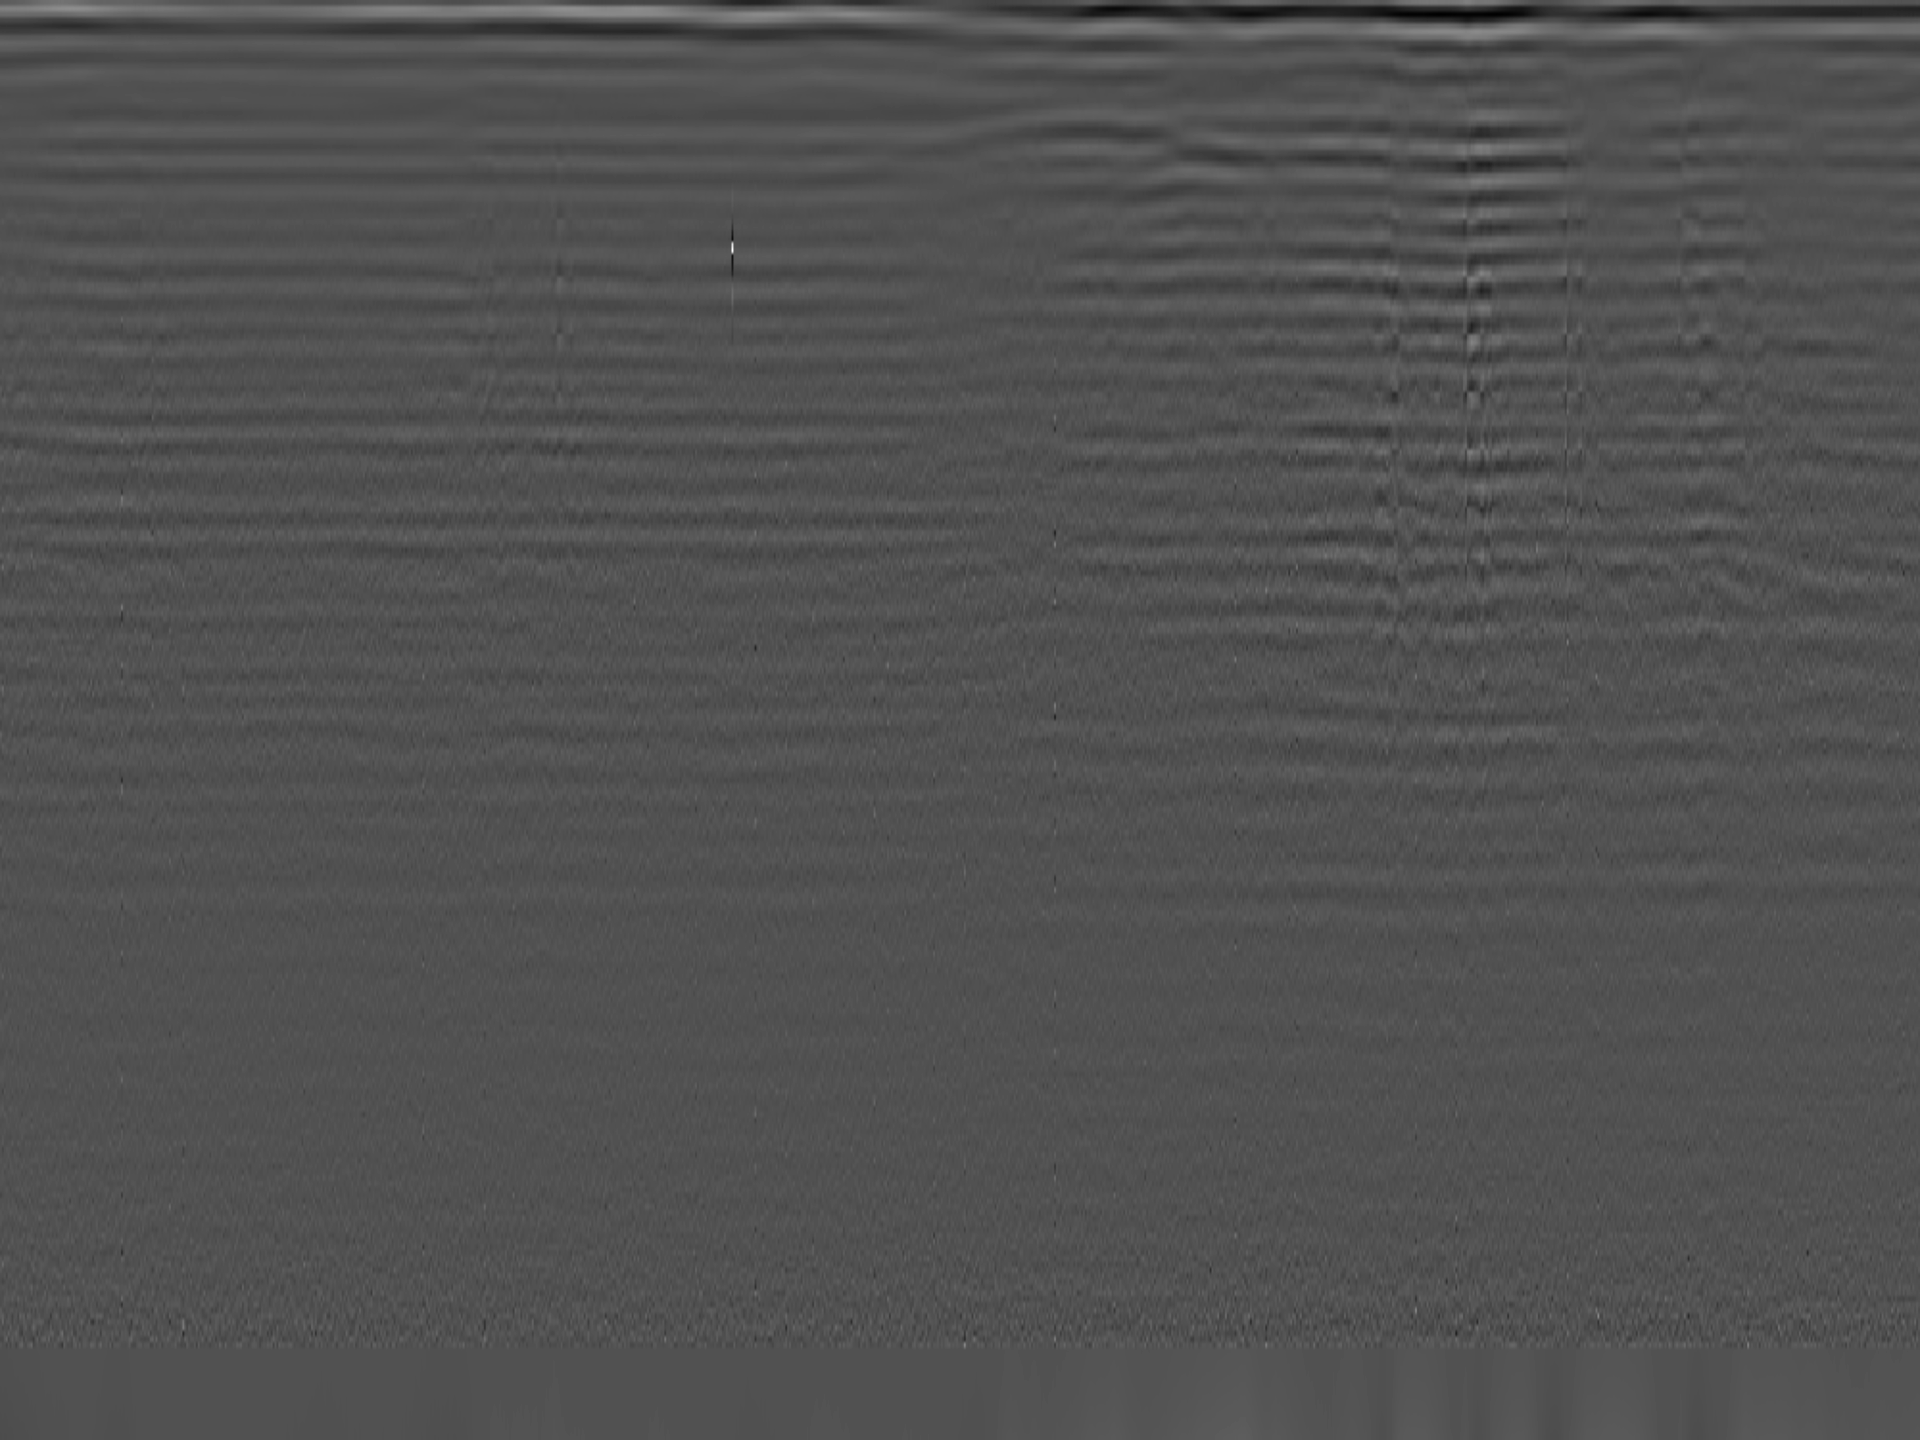Tunnel: (881, 109, 1273, 166)
